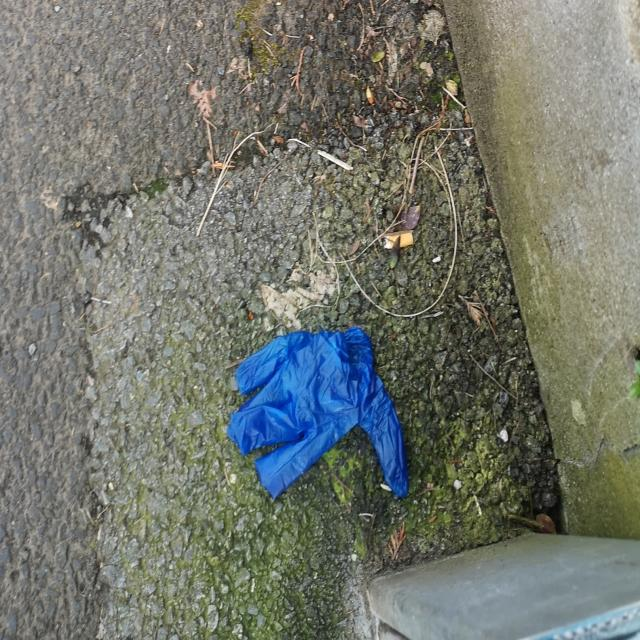b3: (226, 320, 414, 512)
